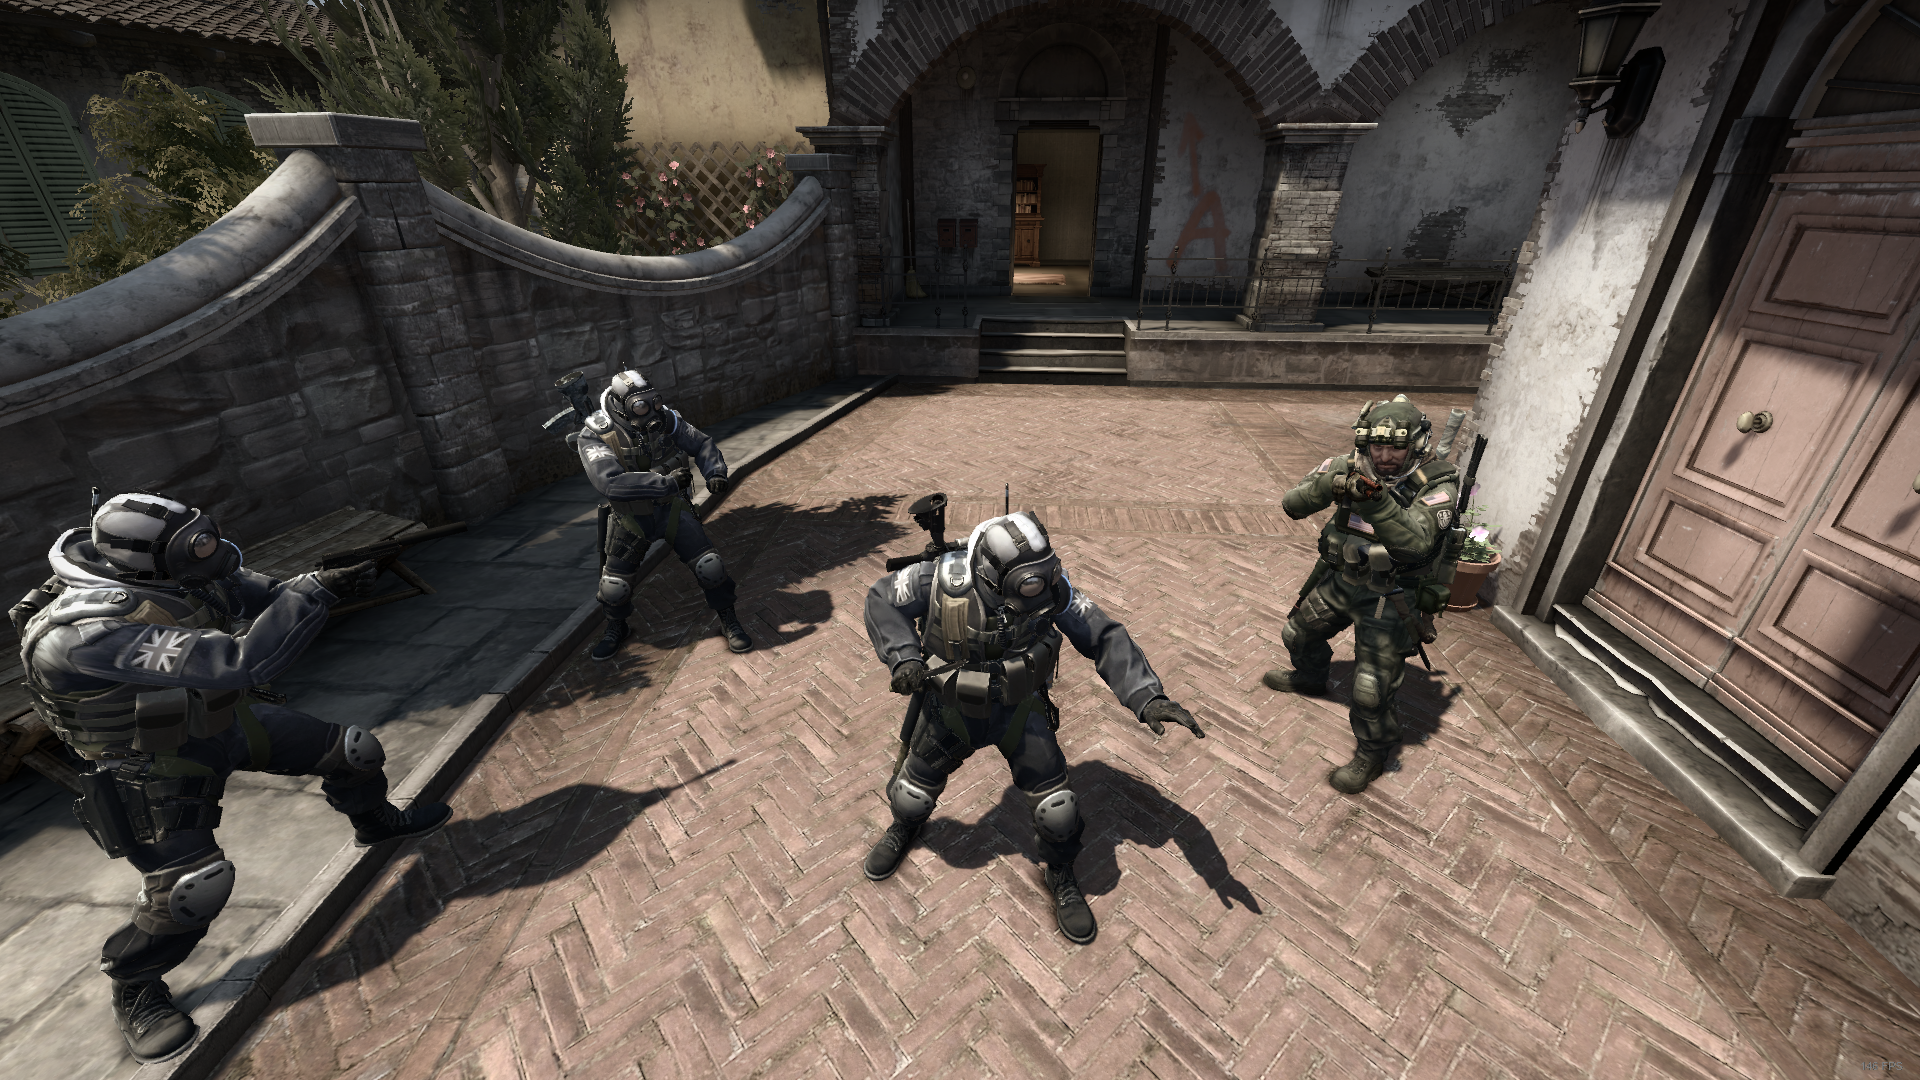ct: (20, 491, 454, 1063), (866, 505, 1205, 934), (571, 368, 757, 659)
